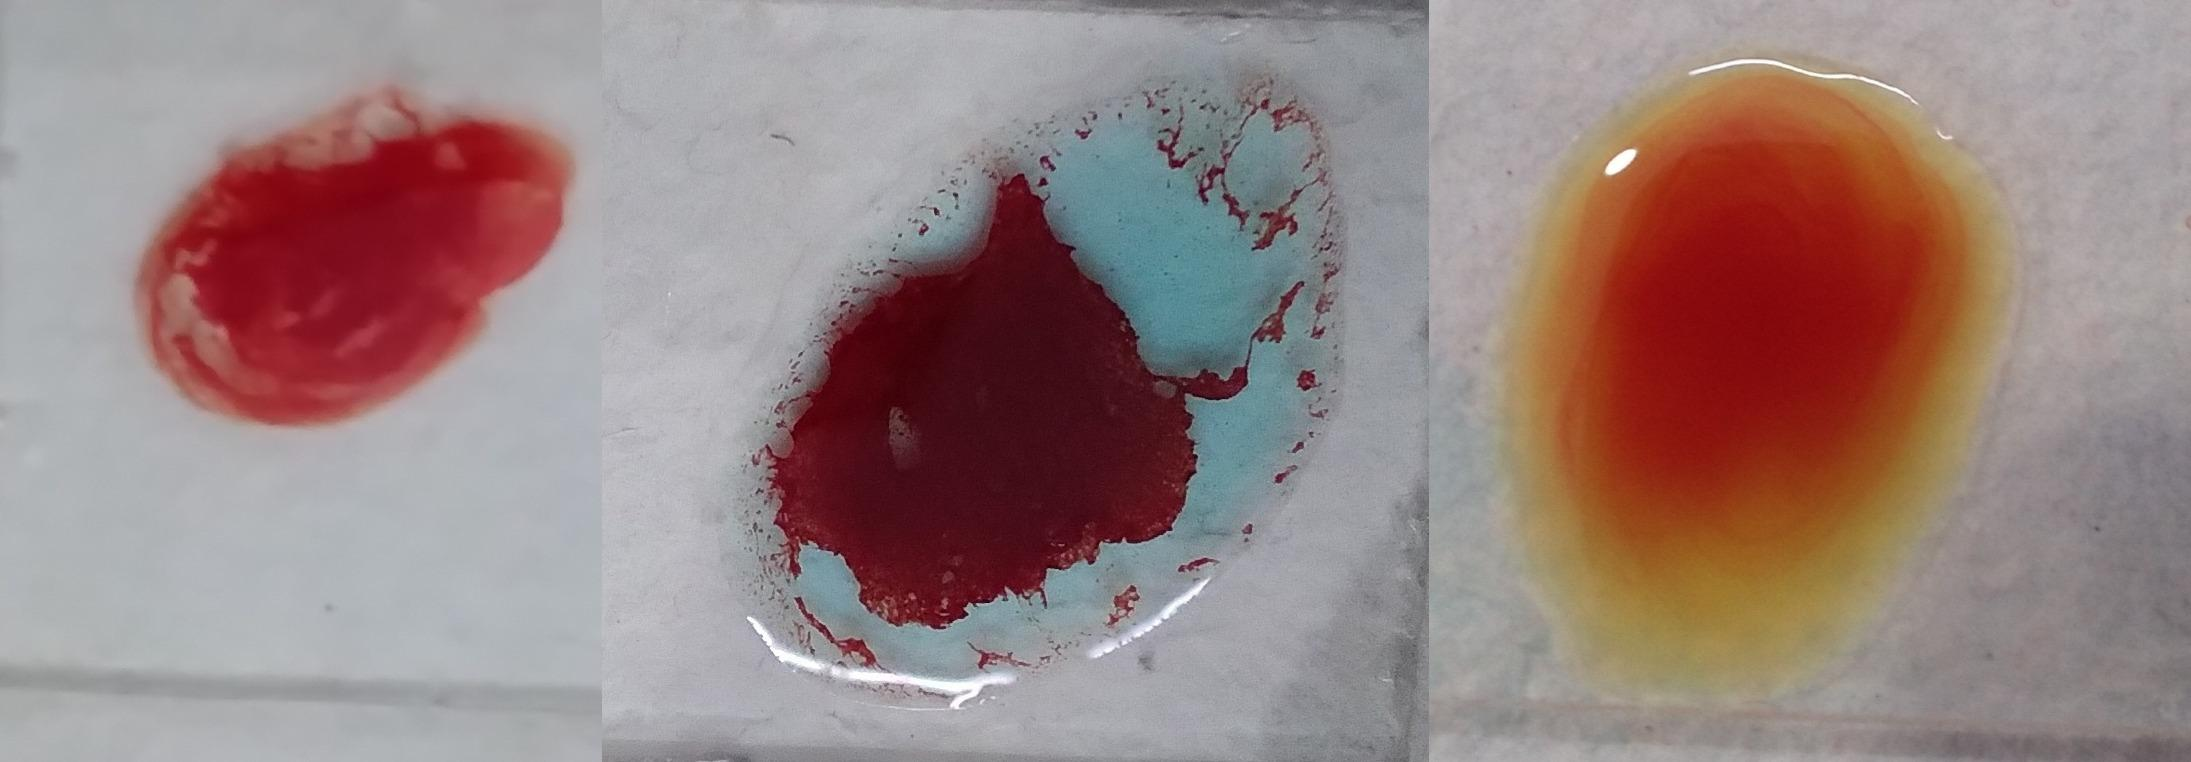A: (732, 49, 1341, 692)
